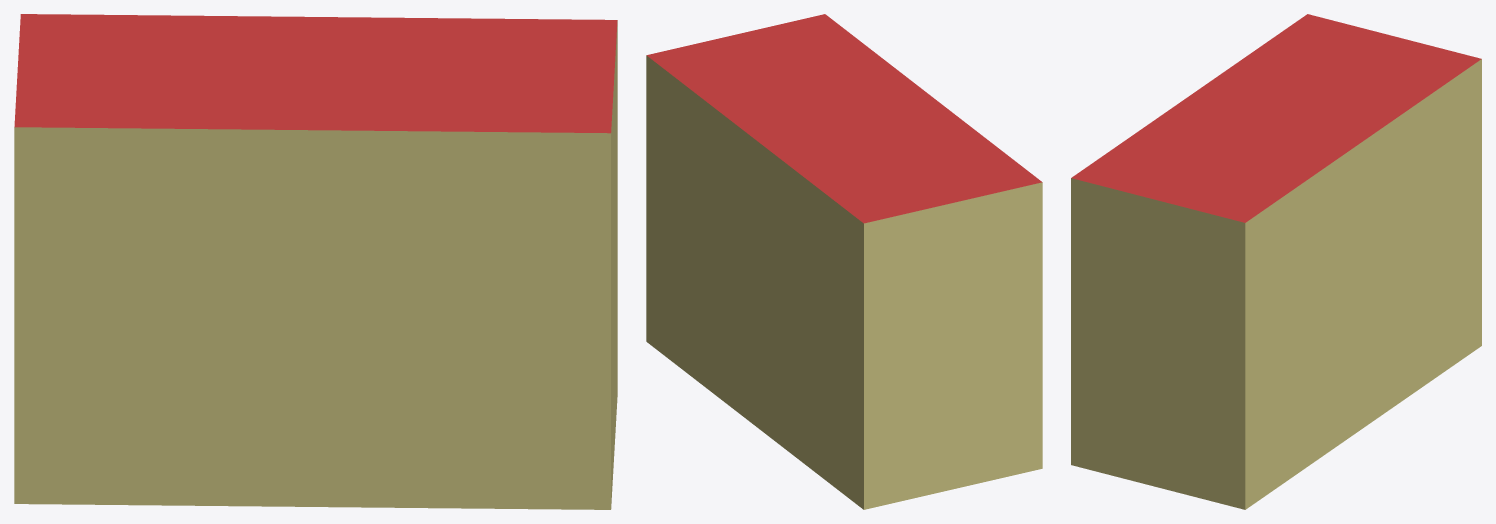
3 views of the same model, side by side, from view 1: azimuth 30°, elevation 25°; view 2: azimuth 150°, elevation 25°; view 3: azimuth 270°, elevation 25° (orthographic). The views are drawn at different scales.
Bounding box in the file's own units: 8.19 × 6.8 × 5.24.
